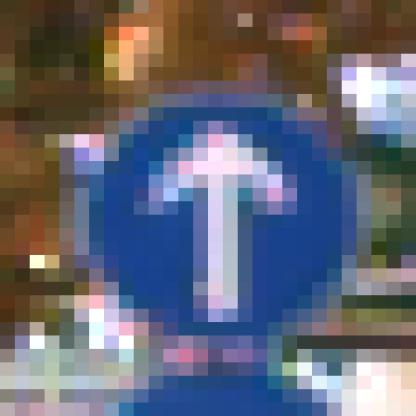AheadOnly: (75, 81, 343, 350)
